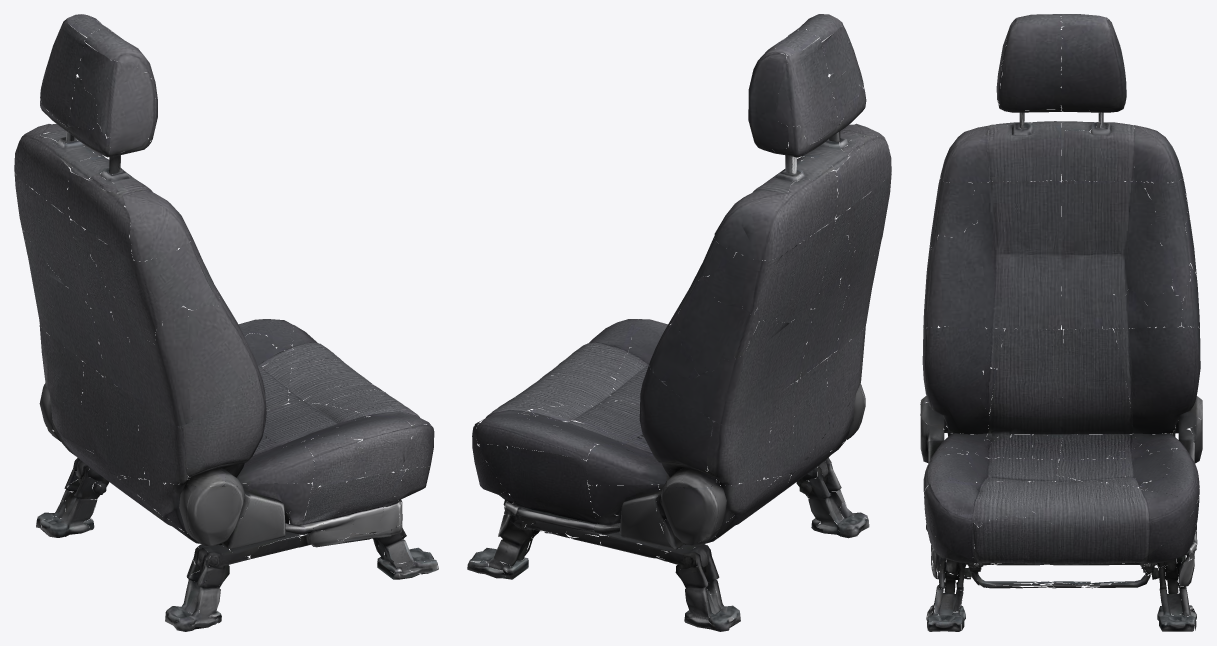
Rendered from car_seat_prop.glb.
The picture shows the model from 3 angles, left to right: view 1: azimuth 30°, elevation 25°; view 2: azimuth 150°, elevation 25°; view 3: azimuth 270°, elevation 25°; orthographic projection. The views are drawn at different scales.
Visible parts, largest first — view 1: prop_car_bench; view 2: prop_car_bench; view 3: prop_car_bench.
Part boxes in pixels (x1,y1,x2,y2): prop_car_bench: (14, 14, 438, 631); prop_car_bench: (467, 14, 891, 631); prop_car_bench: (920, 14, 1202, 631).
Size of the model in its own units: 0.5782 by 0.9814 by 0.5035.
Materials: 1 (1 with a texture image).
